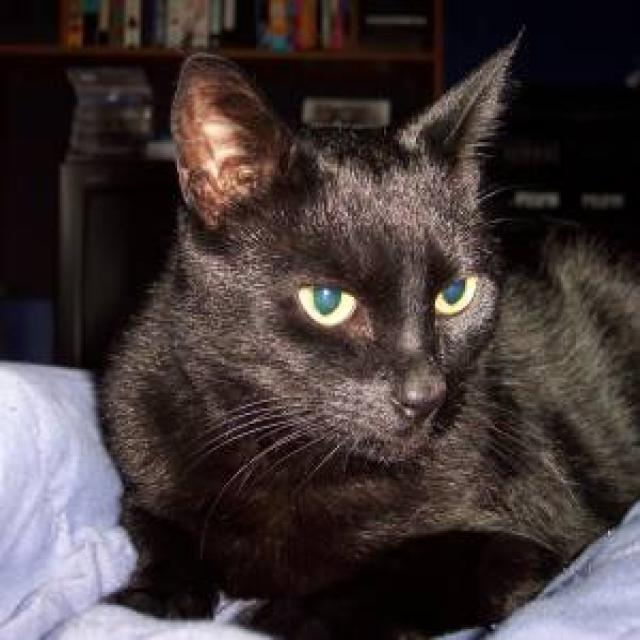Bombay: (152, 28, 534, 466)
